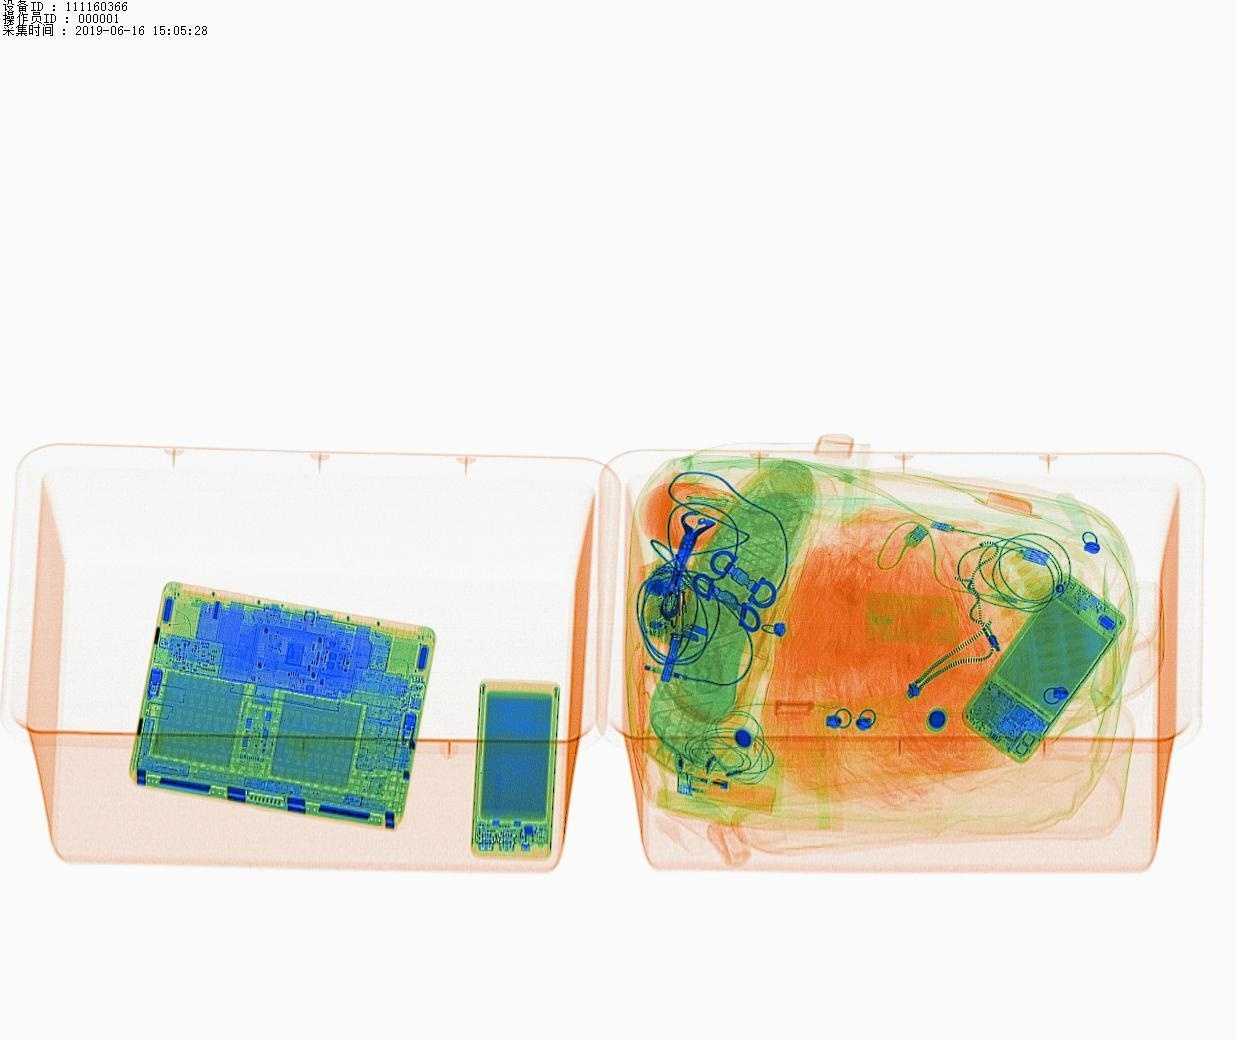NonmetallicFire: (658, 757, 807, 832)
